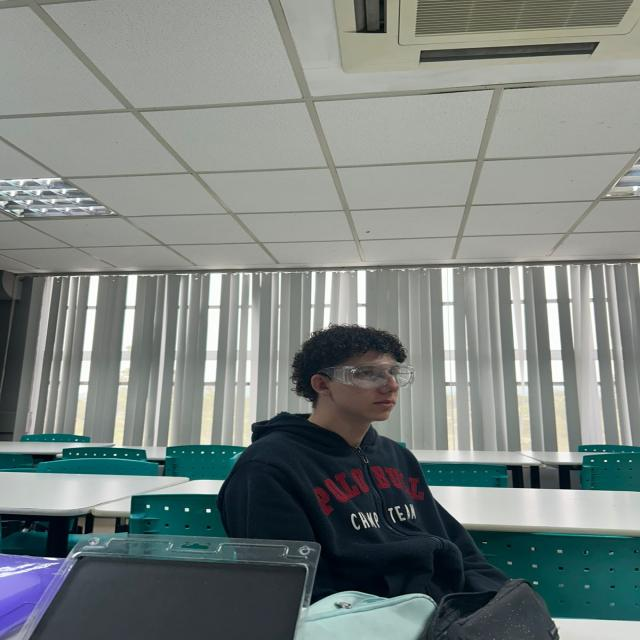oculos-epi: (320, 362, 415, 389)
